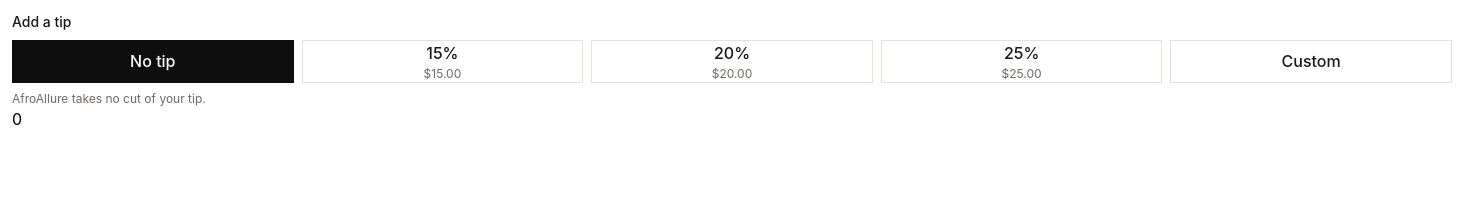
Scenario: TipPicker › rejects a bad custom amount (100.01) without saving
Click the button "Custom": (1311,61) [1170, 40, 1452, 83]
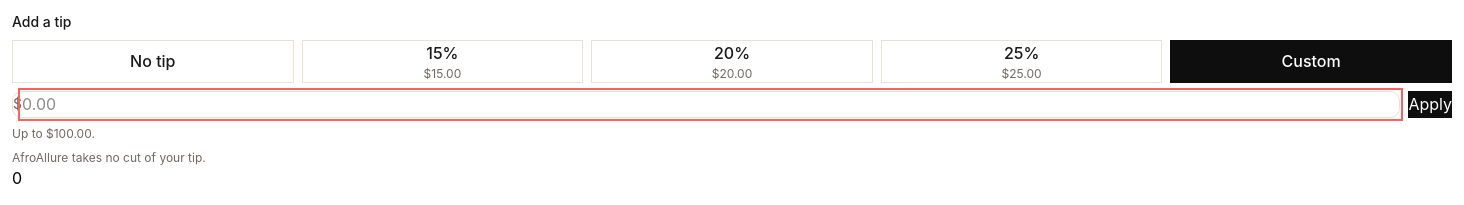
In the field named "Custom tip in dollars": (711,104) [22, 92, 1399, 117], type "100.01"
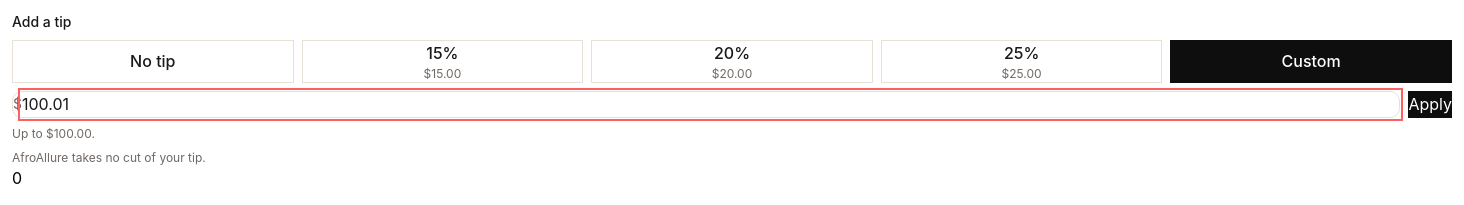
Click the button "Apply": (1430,104) [1408, 91, 1452, 118]
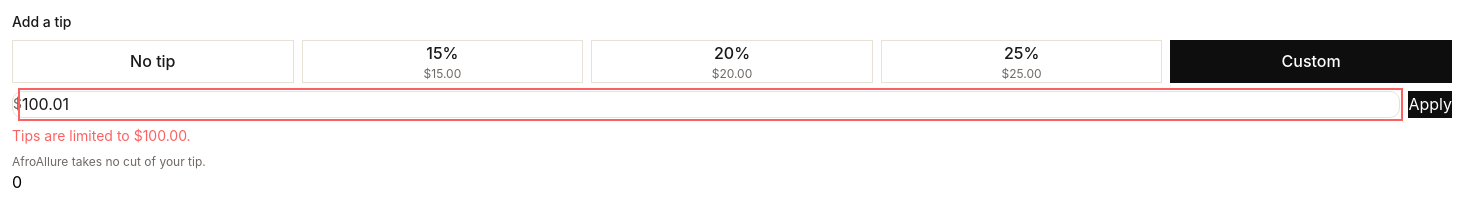
Now the text "Tips are limited to $100.00." is shown, box [12, 127, 191, 144]
